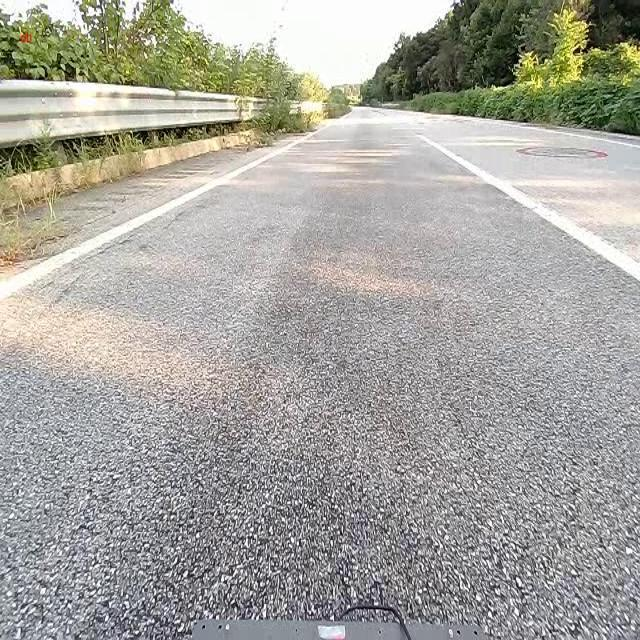Lane: (0, 137, 307, 298), (0, 141, 299, 300), (407, 127, 640, 287), (421, 135, 639, 281)
